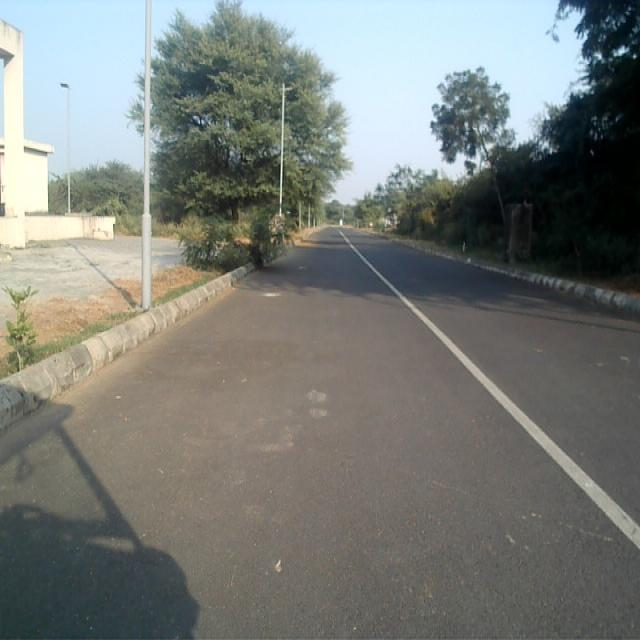lane: (0, 229, 640, 640)
